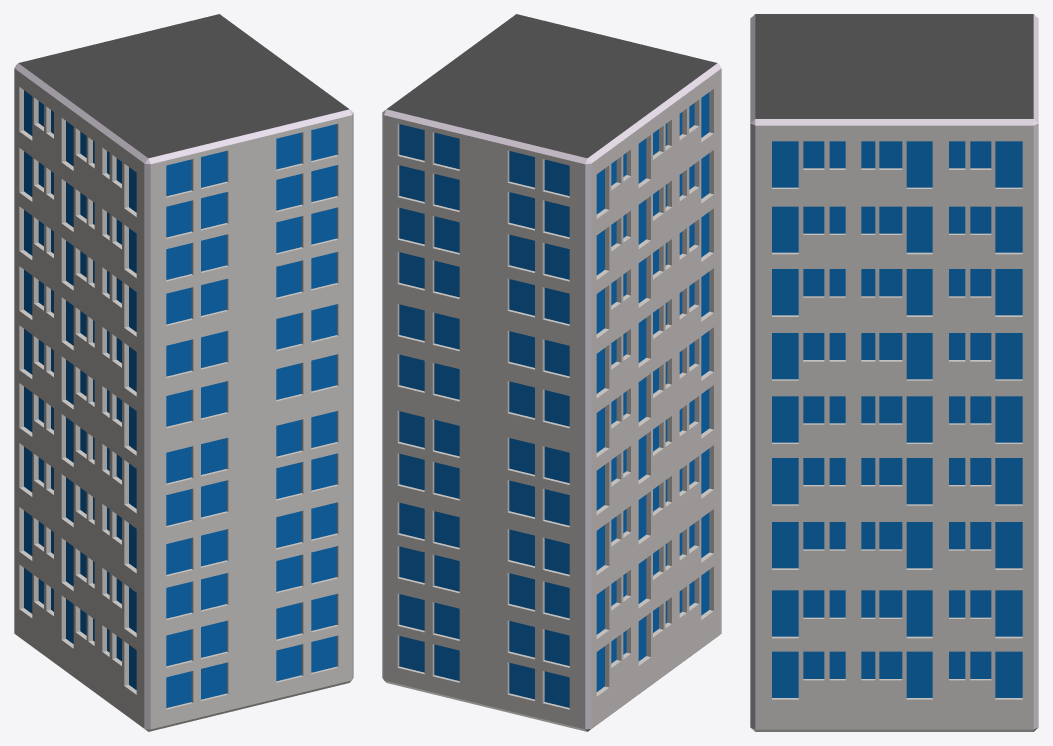
Rendered from blok1.fbx.
3 views of the same model, side by side, from view 1: azimuth 30°, elevation 25°; view 2: azimuth 150°, elevation 25°; view 3: azimuth 270°, elevation 25° (orthographic). The views are drawn at different scales.
Visible parts, largest first — view 1: Cube; view 2: Cube; view 3: Cube.
Part boxes in pixels (<box>): Cube: <box>14,14,353,731</box>; Cube: <box>382,14,721,731</box>; Cube: <box>750,14,1038,731</box>.
Bounding box in the file's own units: 1637 × 4290 × 1828.
